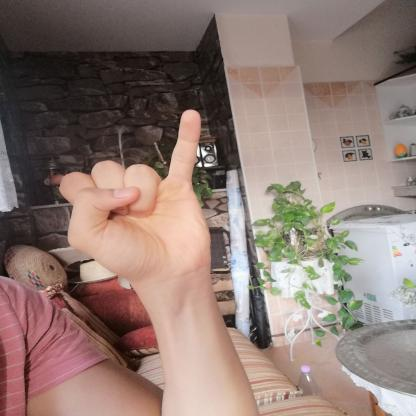MEEM: (33, 98, 228, 295)
